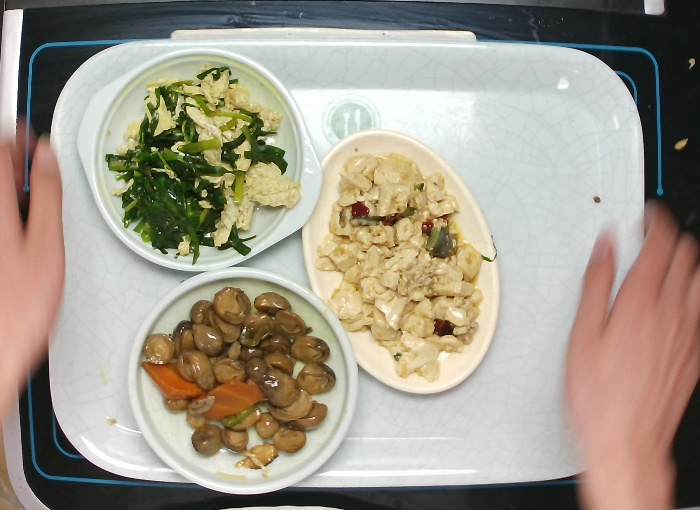JYsf-Shuang_Er_Pan: (76, 46, 324, 274)
JYsf-Tuo_Yuan_Wan: (299, 129, 501, 395)
JYsf-Xiao_Yuan_Pan: (125, 266, 360, 496)
